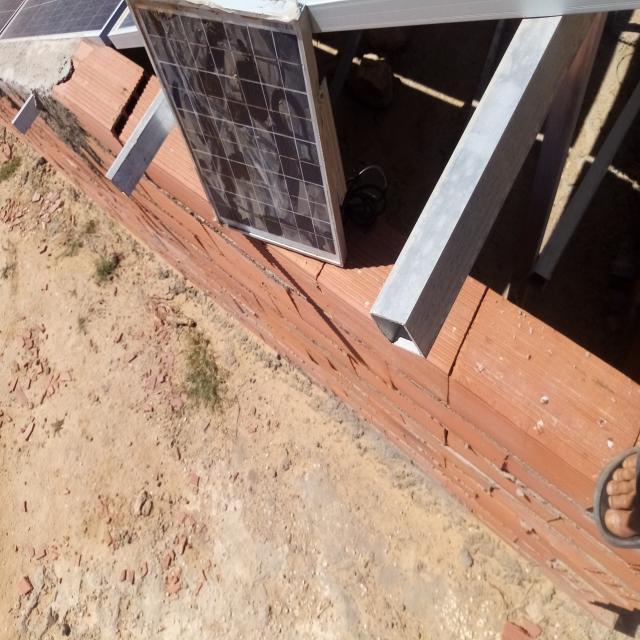faulty: (126, 1, 341, 266)
